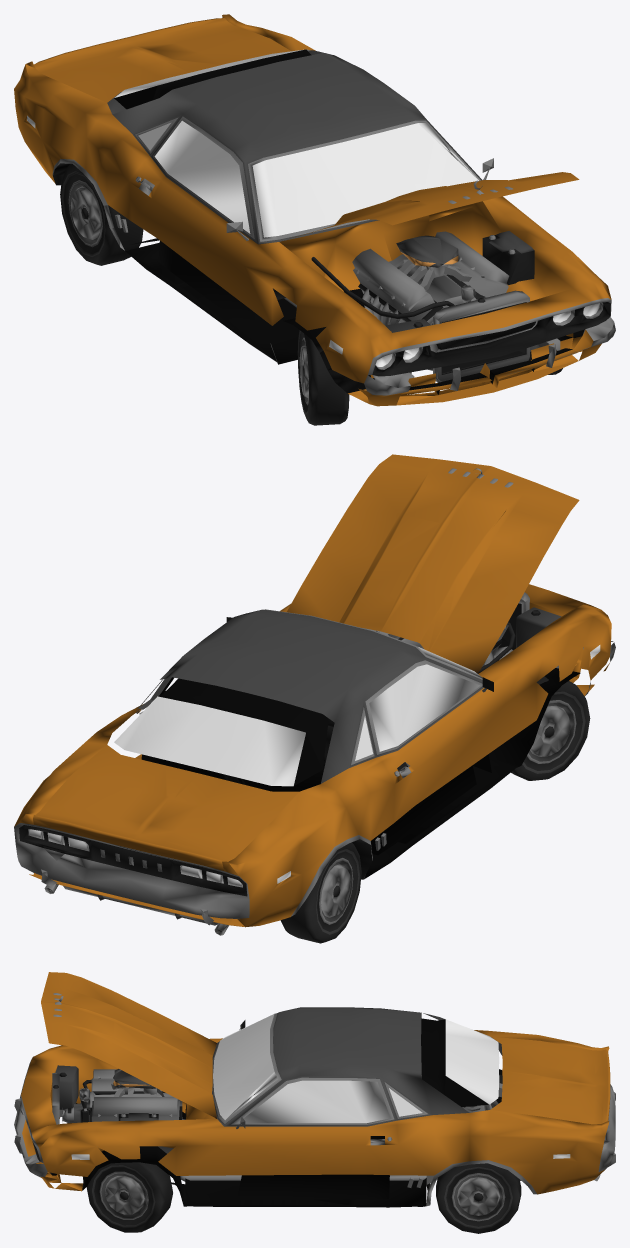
The model's file is coupe-hoodup.glb.
3 renders of one model, top to bottom at view 1: azimuth 30°, elevation 25°; view 2: azimuth 150°, elevation 25°; view 3: azimuth 270°, elevation 25°, orthographic. The views are drawn at different scales.
Parts seen in each view (by area): view 1: Body, Trunk, Engine, Engine_Details, Wheel RR, Hood, Wheel FR, Cables; view 2: Body, Hood, Trunk, Wheel RR, Wheel FR, Engine_Details, Chassis; view 3: Body, Hood, Trunk, Wheel FL, Wheel RL, Engine, Engine_Details, Chassis.
Boxes of the visible parts, bbox=[...] form: Body: bbox=[14, 14, 615, 406]; Trunk: bbox=[34, 18, 290, 102]; Engine: bbox=[352, 231, 509, 370]; Engine_Details: bbox=[386, 231, 534, 382]; Wheel RR: bbox=[60, 163, 143, 265]; Hood: bbox=[290, 172, 579, 238]; Wheel FR: bbox=[297, 330, 349, 425]; Cables: bbox=[311, 257, 454, 318]; Body: bbox=[14, 584, 615, 927]; Hood: bbox=[287, 454, 579, 673]; Trunk: bbox=[33, 745, 298, 870]; Wheel RR: bbox=[280, 842, 361, 943]; Wheel FR: bbox=[511, 676, 590, 780]; Engine_Details: bbox=[498, 592, 561, 650]; Chassis: bbox=[44, 665, 558, 935]; Body: bbox=[14, 1007, 615, 1207]; Hood: bbox=[41, 972, 216, 1118]; Trunk: bbox=[490, 1036, 610, 1124]; Wheel FL: bbox=[86, 1162, 172, 1232]; Wheel RL: bbox=[436, 1163, 521, 1233]; Engine: bbox=[62, 1069, 182, 1153]; Engine_Details: bbox=[52, 1065, 158, 1124]; Chassis: bbox=[59, 1083, 600, 1184].
Bounding box in the file's own units: 2.01 × 1.71 × 4.86.
